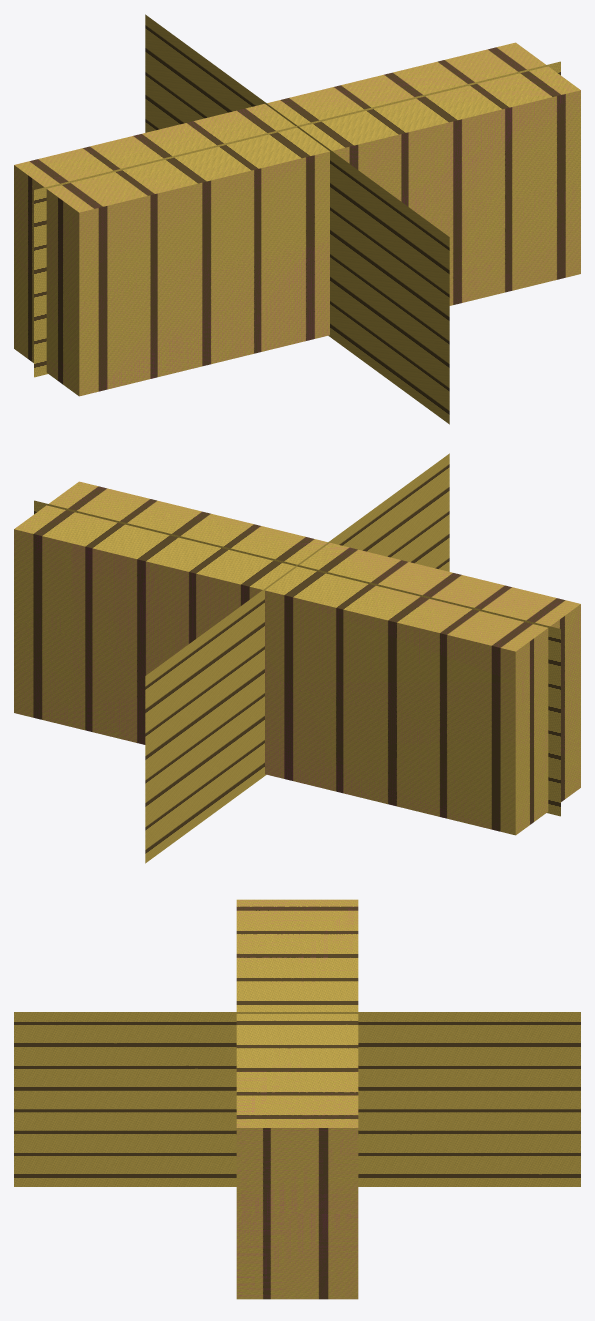
The model's file is haybale_wall_4.dae.
The picture shows the model from 3 angles, top to bottom: view 1: azimuth 30°, elevation 25°; view 2: azimuth 150°, elevation 25°; view 3: azimuth 270°, elevation 25°; orthographic projection. The views are drawn at different scales.
Parts seen in each view (by area): view 1: haybale_wall_4_a800, haybale_wall_4_a50, haybale_wall_4_a200; view 2: haybale_wall_4_a800, haybale_wall_4_a50, haybale_wall_4_a200; view 3: haybale_wall_4_a50, haybale_wall_4_a800.
Boxes of the visible parts, x1,y1,x2,y2 form: haybale_wall_4_a800: (14,42,580,396); haybale_wall_4_a50: (34,14,560,424); haybale_wall_4_a200: (14,152,576,364); haybale_wall_4_a800: (14,481,580,835); haybale_wall_4_a50: (34,453,560,863); haybale_wall_4_a200: (265,591,578,834); haybale_wall_4_a50: (14,1012,580,1186); haybale_wall_4_a800: (236,899,358,1299).
Bounding box in the file's own units: 2.1 × 2.1 × 0.714.
2 materials, 1 textured.
